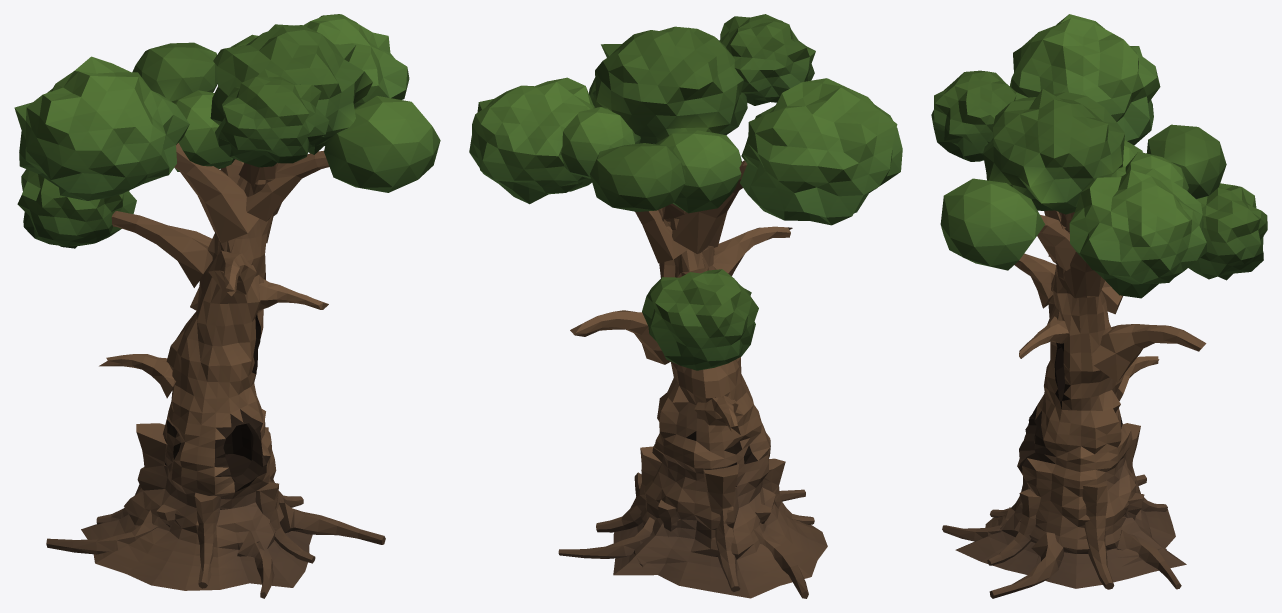
The model's file is hollow-tree.glb.
The picture shows the model from 3 angles, left to right: view 1: azimuth 30°, elevation 25°; view 2: azimuth 150°, elevation 25°; view 3: azimuth 270°, elevation 25°; orthographic projection. The views are drawn at different scales.
Parts seen in each view (by area): view 1: canopy_foliage, trunk; view 2: canopy_foliage, trunk; view 3: canopy_foliage, trunk.
Boxes of the visible parts, x1,y1,x2,y2 form: canopy_foliage: (14, 14, 440, 248); trunk: (46, 143, 385, 598); canopy_foliage: (469, 14, 902, 370); trunk: (558, 160, 827, 598); canopy_foliage: (931, 14, 1267, 298); trunk: (942, 210, 1206, 598).
Size of the model in its own units: 60.36 by 74 by 47.42.
